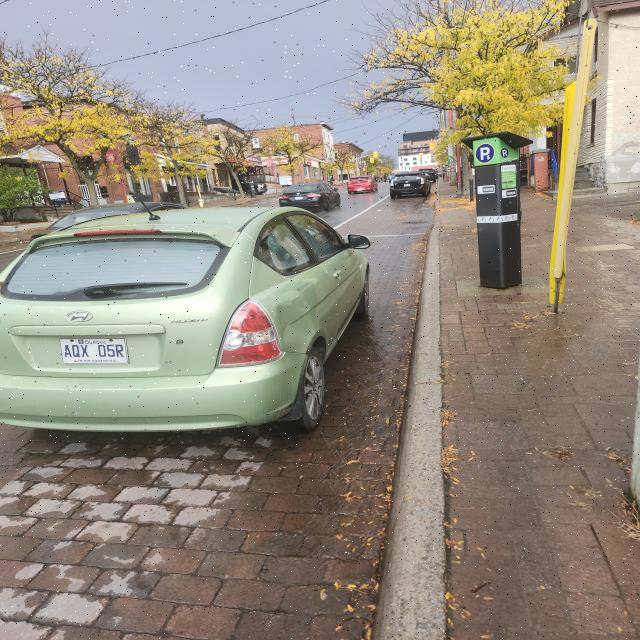plaque: (60, 339, 128, 363), (294, 197, 303, 200), (404, 184, 410, 186), (357, 188, 363, 190)
